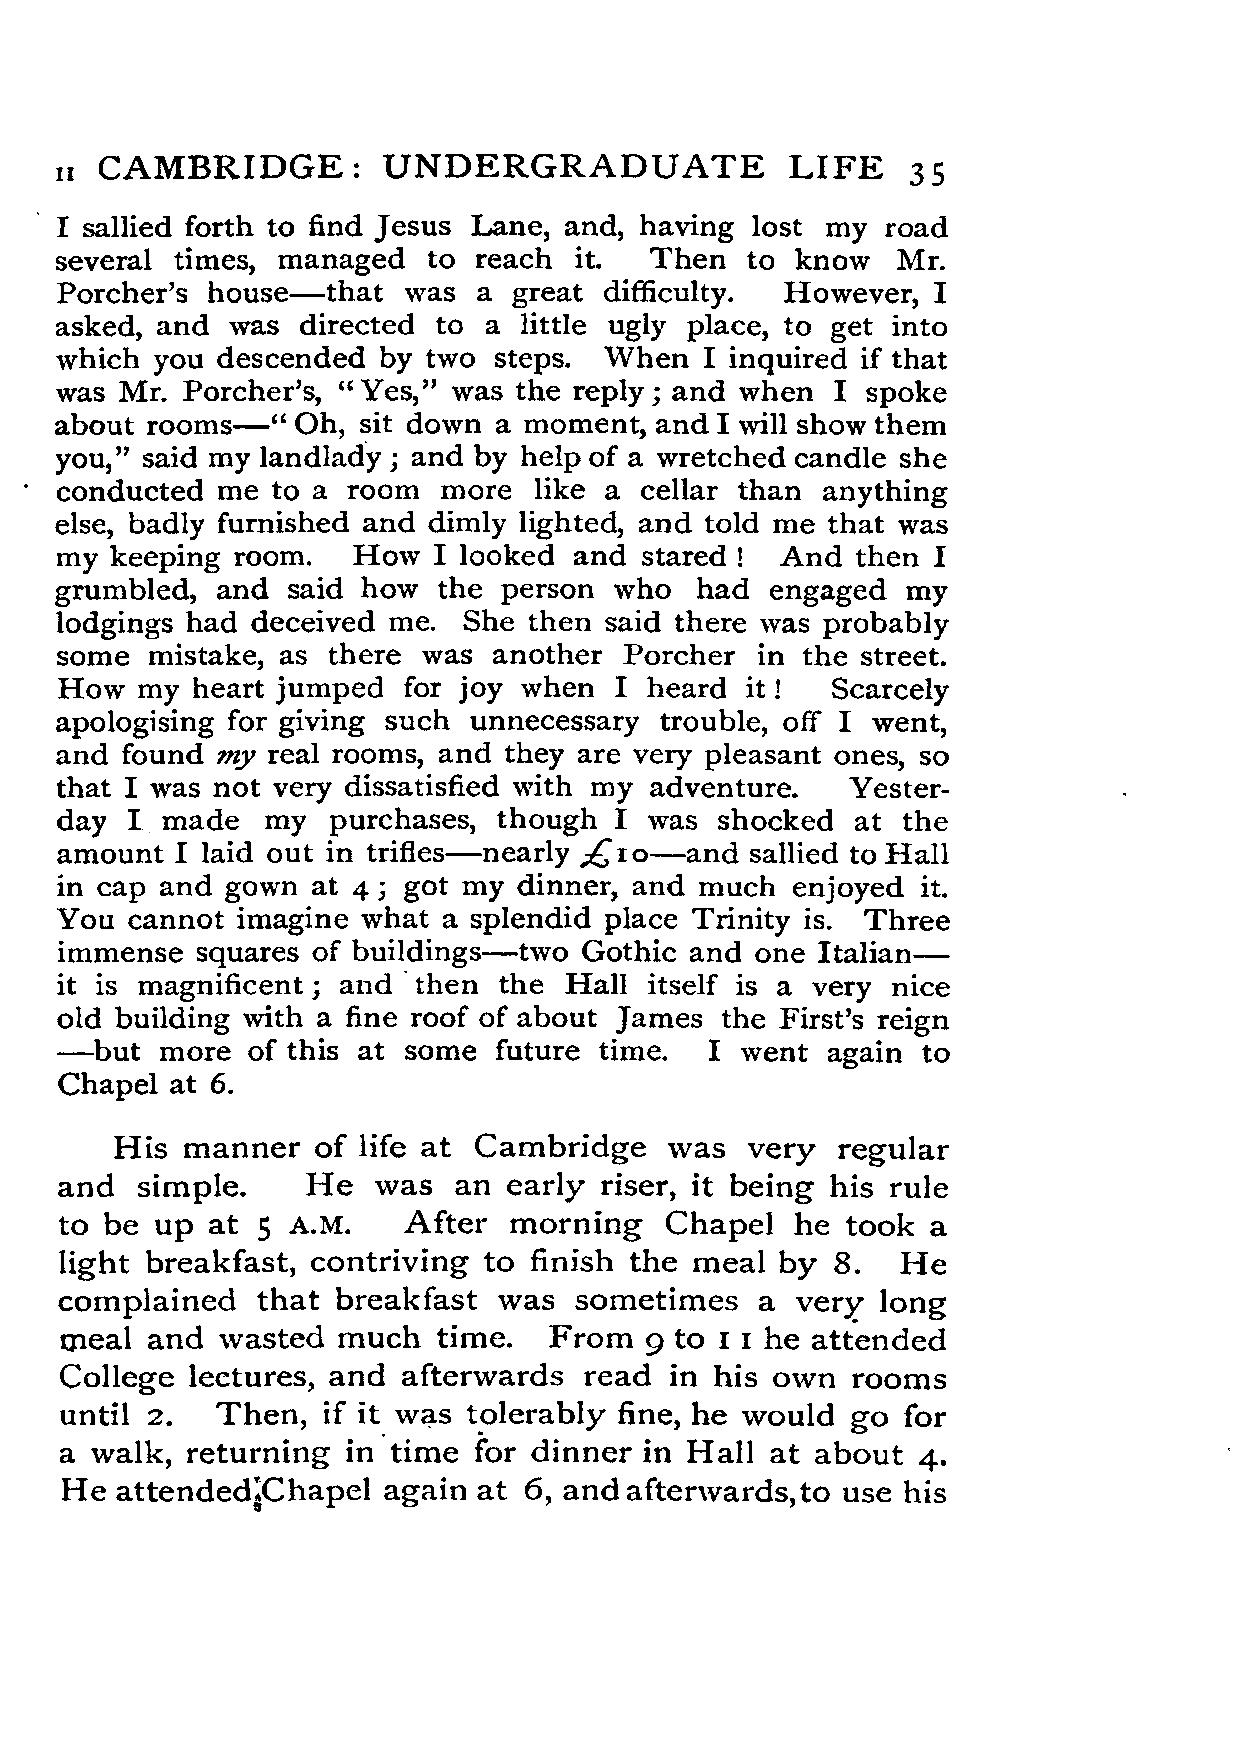content: (50, 211, 953, 1508)
content_chapter: (89, 149, 884, 183)
content_pagenumber: (905, 160, 945, 187)
